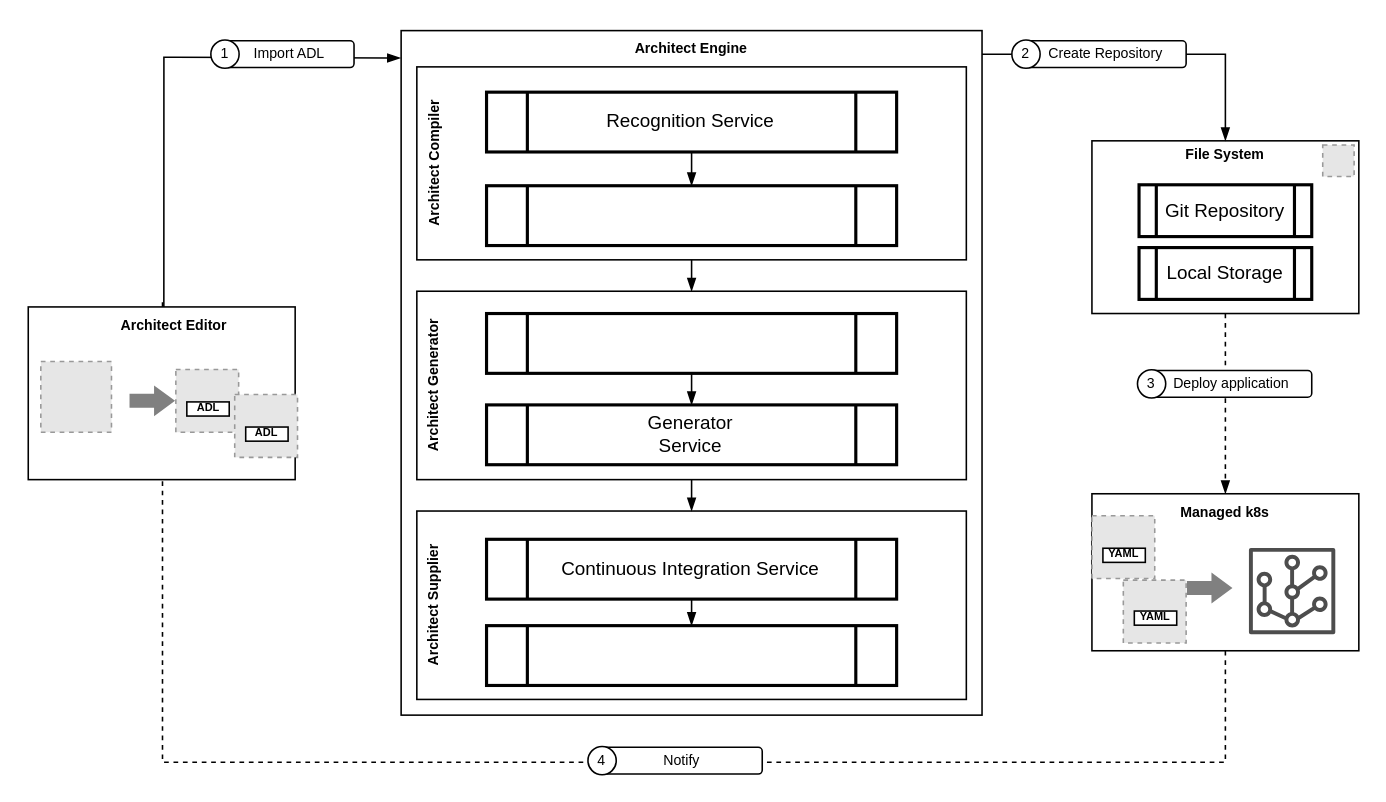
Some shapes in this 1386 by 802 pixel diagram are drawn without their labels. Grey dashed boxes stand in for pictures. The centre of each missing label's shape, as x and y in pixels:
Continuous Delivery Service: point 690,654
Persistence Service: point 690,342
Transformation Service: point 690,214
